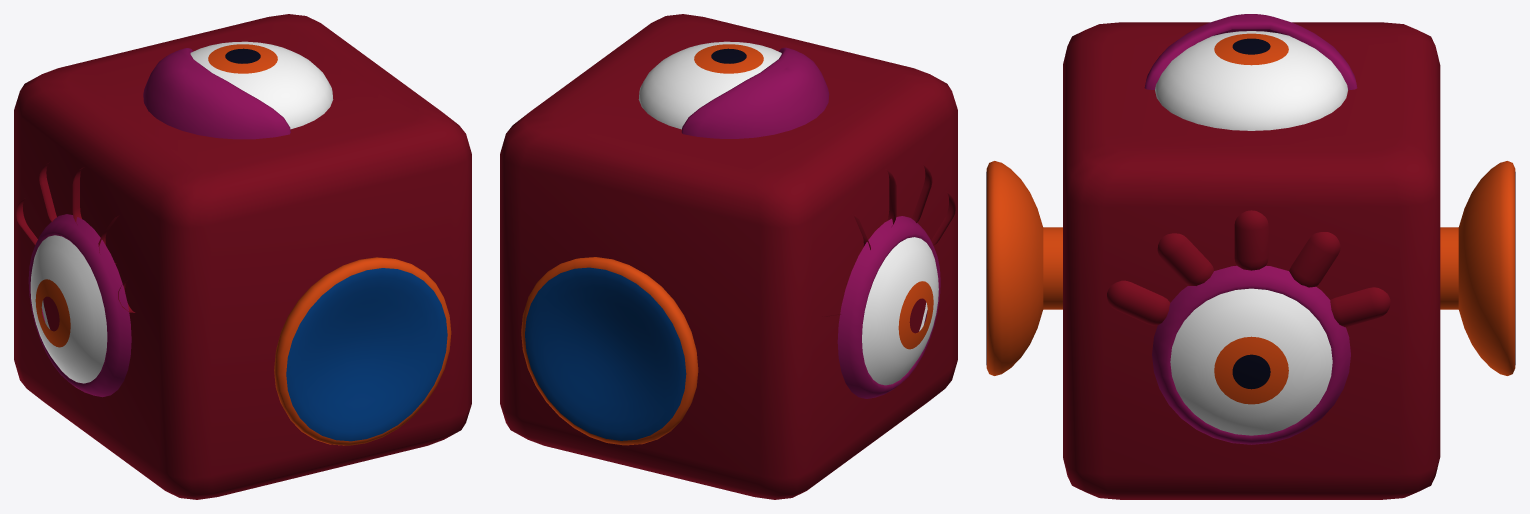
Rendered from simple_square.FBX.
The picture shows the model from 3 angles, left to right: view 1: azimuth 30°, elevation 25°; view 2: azimuth 150°, elevation 25°; view 3: azimuth 270°, elevation 25°; orthographic projection. The views are drawn at different scales.
Parts seen in each view (by area): view 1: Box005, Sphere039, Sphere038, Sphere037, Sphere035; view 2: Box005, Sphere049, Sphere038, Sphere037, Sphere035; view 3: Box005, Sphere034, Sphere035, Sphere039, Sphere049, Sphere037, Capsule026, Capsule030, Capsule029, Capsule027, Capsule028.
Part boxes in pixels (x1,y1,x2,y2): Box005: [14, 14, 471, 499]; Sphere039: [274, 257, 451, 445]; Sphere038: [28, 214, 131, 397]; Sphere037: [143, 48, 290, 139]; Sphere035: [190, 41, 333, 129]; Box005: [500, 14, 957, 499]; Sphere049: [521, 257, 698, 445]; Sphere038: [837, 216, 940, 398]; Sphere037: [681, 47, 829, 138]; Sphere035: [638, 41, 781, 129]; Box005: [1063, 22, 1440, 499]; Sphere034: [1152, 265, 1350, 444]; Sphere035: [1155, 31, 1347, 130]; Sphere039: [986, 161, 1062, 375]; Sphere049: [1440, 161, 1515, 375]; Sphere037: [1144, 14, 1357, 89]; Capsule026: [1234, 210, 1268, 270]; Capsule030: [1107, 280, 1169, 325]; Capsule029: [1157, 233, 1213, 285]; Capsule027: [1289, 232, 1340, 287]; Capsule028: [1330, 287, 1390, 327].
Bounding box in the file's own units: 30.97 × 28.31 × 35.07.
